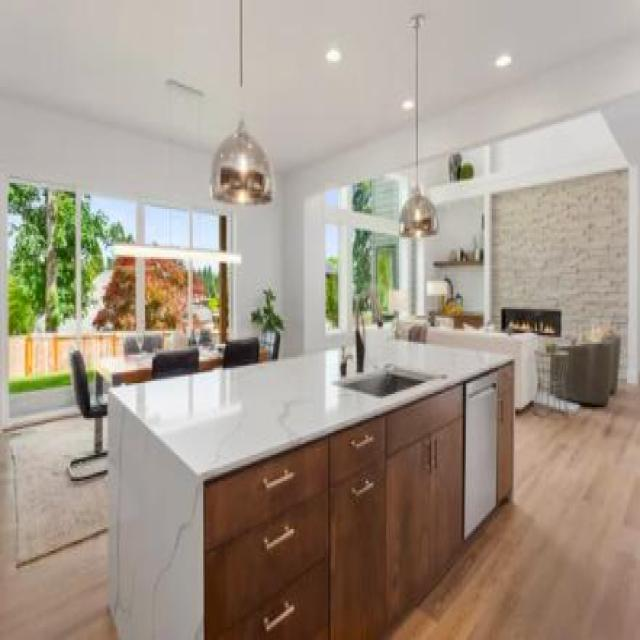dishwasher: (463, 368, 495, 535)
